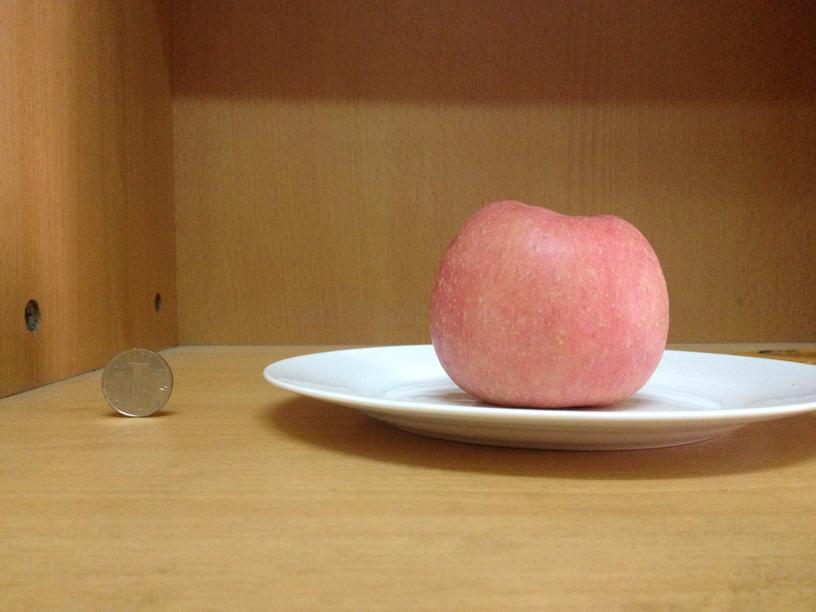apple: (426, 194, 669, 406)
coin: (100, 346, 173, 418)
